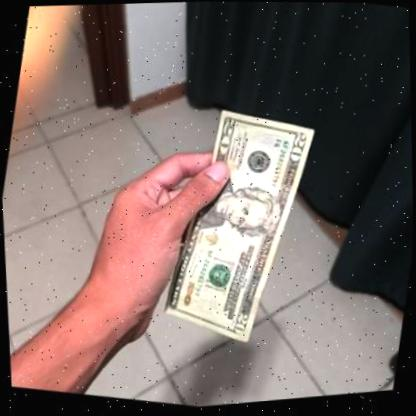dollar_front: (136, 94, 331, 362)
